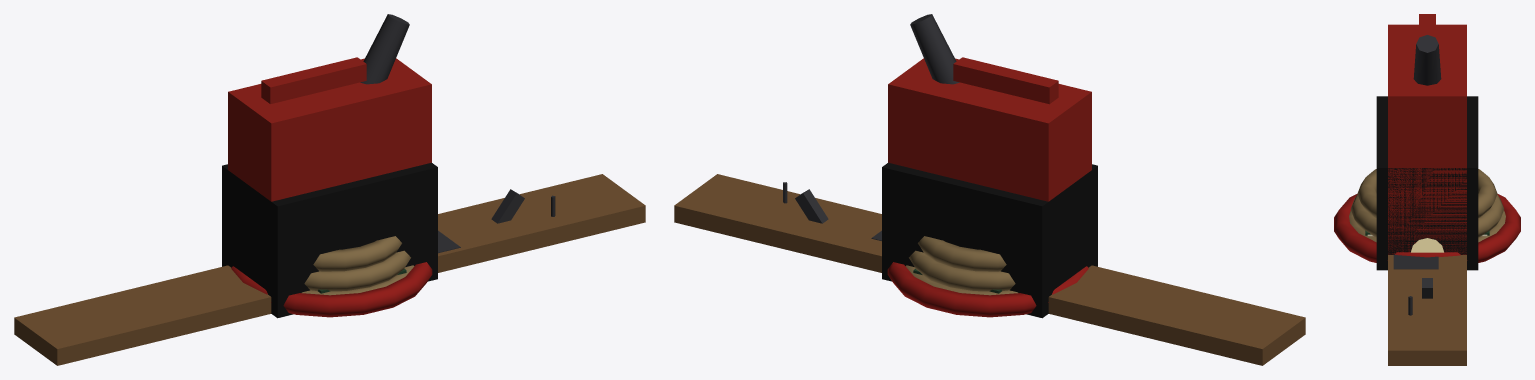
The model's file is items.glb.
The picture shows the model from 3 angles, left to right: view 1: azimuth 30°, elevation 25°; view 2: azimuth 150°, elevation 25°; view 3: azimuth 270°, elevation 25°; orthographic projection. The views are drawn at different scales.
Visible parts, largest first — view 1: gas_can, plank, car_battery, rope, valve_wheel, crowbar; view 2: plank, gas_can, car_battery, rope, valve_wheel, crowbar; view 3: gas_can, car_battery, plank, valve_wheel, rope, wrench, flashlight, crowbar.
Boxes of the visible parts, <box> form: gas_can: <box>228,14,431,201</box>; plank: <box>14,174,645,365</box>; car_battery: <box>222,162,437,318</box>; rope: <box>302,236,414,295</box>; valve_wheel: <box>231,262,432,317</box>; crowbar: <box>491,189,524,223</box>; plank: <box>674,174,1305,365</box>; gas_can: <box>888,14,1091,201</box>; car_battery: <box>882,162,1097,318</box>; rope: <box>905,236,1017,295</box>; valve_wheel: <box>887,262,1088,317</box>; crowbar: <box>795,189,828,223</box>; gas_can: <box>1388,14,1466,254</box>; car_battery: <box>1376,96,1478,270</box>; plank: <box>1388,255,1466,365</box>; valve_wheel: <box>1334,194,1520,262</box>; rope: <box>1349,169,1505,242</box>; wrench: <box>1393,254,1438,269</box>; flashlight: <box>1411,238,1443,252</box>; crowbar: <box>1422,278,1432,298</box>.
Size of the model in its own units: 1.1 by 0.4582 by 0.3309.
